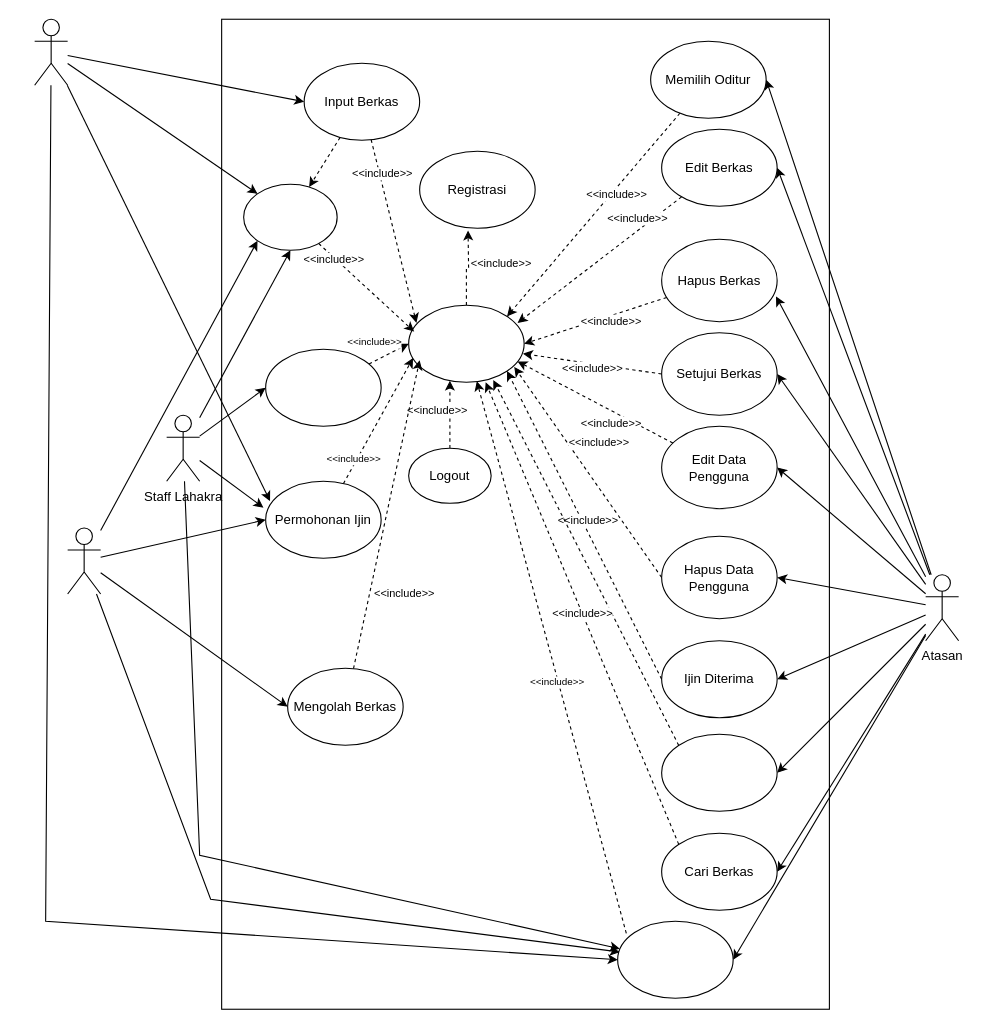
This 981x1029 diagram has some shape labels left out. Each missing label, with the box of its shape:
Download File: (617, 920, 733, 998)
Edit Profile: (243, 183, 337, 250)
Ijin Ditolak: (661, 733, 777, 811)
Login: (408, 304, 524, 382)
Permohonan Acc Kepala: (265, 348, 381, 426)
Staff Oditur: (67, 527, 101, 594)
Staff TAUD: (34, 18, 68, 85)
